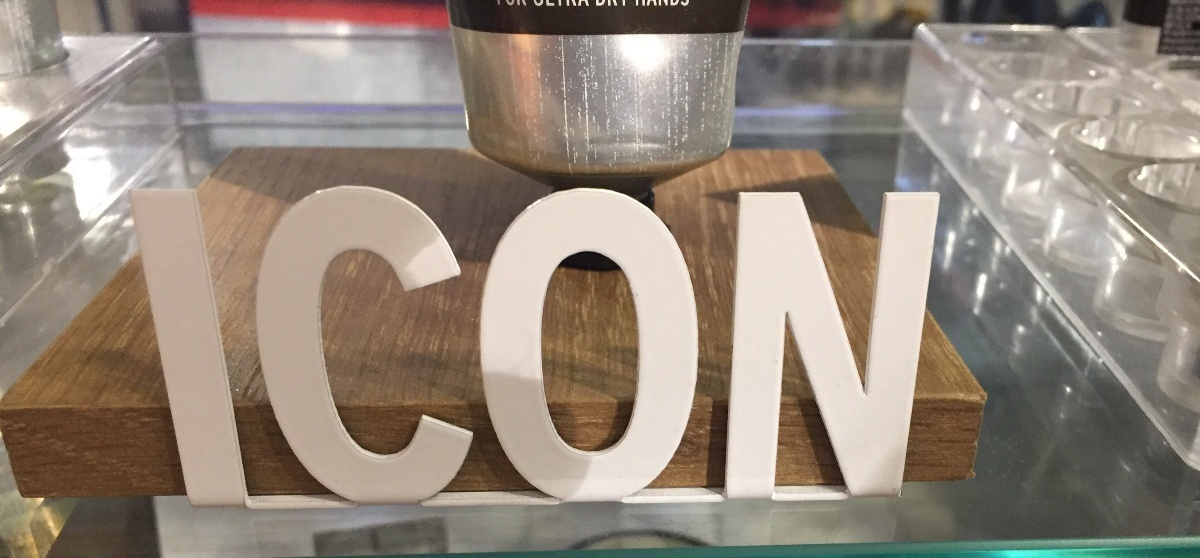text: (129, 186, 144, 505), (145, 186, 160, 505), (161, 186, 176, 505), (177, 186, 192, 505), (193, 186, 208, 505), (209, 186, 224, 505), (225, 186, 240, 505), (241, 186, 256, 505), (257, 186, 272, 505), (273, 186, 288, 505), (289, 186, 304, 505), (305, 186, 320, 505), (321, 186, 336, 505), (337, 186, 352, 505), (353, 186, 368, 505), (369, 186, 384, 505), (385, 186, 400, 505), (401, 186, 416, 505), (417, 186, 432, 505), (433, 186, 448, 505), (449, 186, 464, 505), (465, 186, 480, 505), (481, 186, 496, 505), (497, 186, 512, 505), (513, 186, 528, 505), (529, 186, 544, 505), (545, 186, 560, 505), (561, 186, 576, 505), (577, 186, 592, 505), (593, 186, 608, 505), (609, 186, 624, 505), (625, 186, 640, 505), (641, 186, 656, 505), (657, 186, 672, 505), (673, 186, 688, 505), (689, 186, 704, 505), (705, 186, 720, 505), (721, 186, 736, 505), (737, 186, 752, 505), (753, 186, 768, 505), (769, 186, 784, 505), (785, 186, 800, 505), (801, 186, 816, 505), (817, 186, 832, 505), (833, 186, 848, 505), (849, 186, 864, 505), (865, 186, 880, 505), (881, 186, 896, 505), (897, 186, 912, 505), (913, 186, 928, 505), (929, 186, 943, 505), (125, 186, 128, 505)
